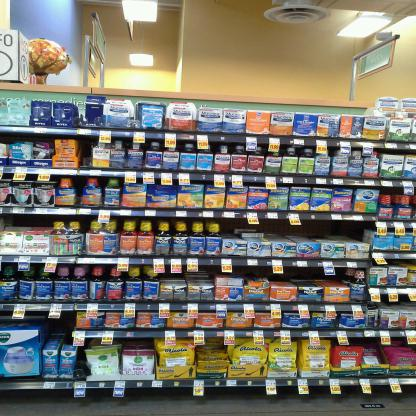Void: (274, 219, 368, 241), (288, 268, 322, 282), (41, 320, 67, 338), (10, 218, 50, 228), (78, 140, 87, 163)
